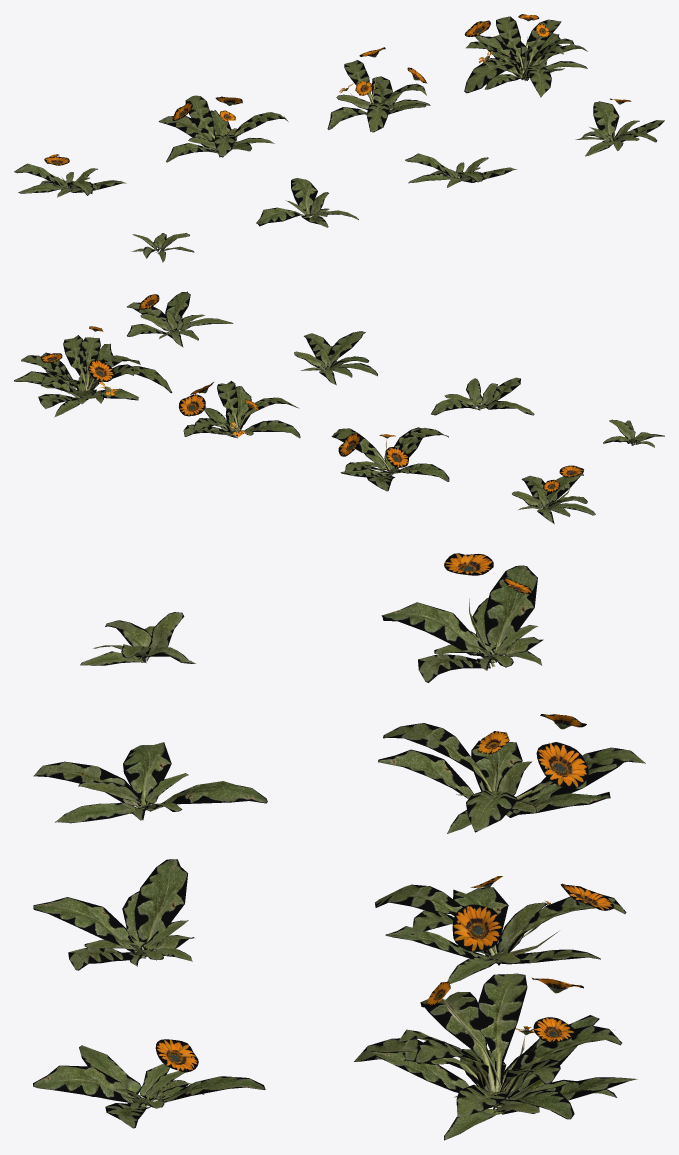
Rendered from flower_gazania.glb.
3 views of the same model, one above another, from view 1: azimuth 30°, elevation 25°; view 2: azimuth 150°, elevation 25°; view 3: azimuth 270°, elevation 25° (orthographic). The views are drawn at different scales.
Visible parts, largest first — view 1: flower_gazania_a_LOD0; view 2: flower_gazania_a_LOD0; view 3: flower_gazania_a_LOD0.
Boxes of the visible parts, bbox=[...] form: flower_gazania_a_LOD0: bbox=[14, 14, 664, 262]; flower_gazania_a_LOD0: bbox=[14, 291, 664, 524]; flower_gazania_a_LOD0: bbox=[33, 553, 645, 1140].
Size of the model in its own units: 1.48 by 0.1652 by 0.7015.
Materials: 1 (1 with a texture image).
